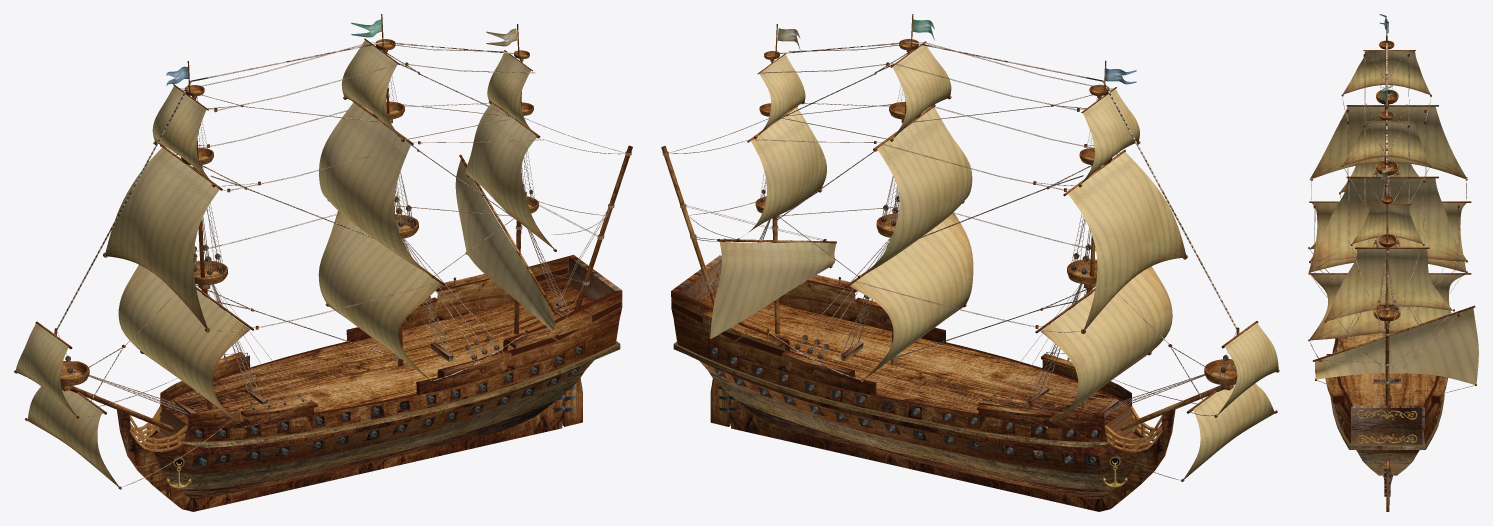
Rendered from ship_r.glb.
The picture shows the model from 3 angles, left to right: view 1: azimuth 30°, elevation 25°; view 2: azimuth 150°, elevation 25°; view 3: azimuth 270°, elevation 25°; orthographic projection. The views are drawn at different scales.
Visible parts, largest first — view 1: Object_30, Object_35, Object_16, Object_39, Object_33, Object_34, Object_8, Object_36, Object_14, Object_10, Object_7, Object_40 (+2 smaller); view 2: Object_30, Object_35, Object_16, Object_39, Object_33, Object_34, Object_8, Object_36, Object_14, Object_10, Object_7, Object_40 (+2 smaller); view 3: Object_30, Object_35, Object_33, Object_39, Object_16, Object_8, Object_10, Object_34, Object_14, Object_37, Object_7, Object_9.
Boxes of the visible parts, box(x1,y1,x2,y2) form: Object_30: box(15, 40, 555, 486); Object_35: box(117, 255, 622, 511); Object_16: box(156, 341, 620, 493); Object_39: box(145, 255, 621, 477); Object_33: box(35, 14, 558, 489); Object_34: box(14, 50, 632, 465); Object_8: box(57, 42, 610, 400); Object_36: box(178, 400, 556, 499); Object_14: box(57, 42, 625, 487); Object_10: box(73, 52, 569, 414); Object_7: box(79, 89, 584, 416); Object_40: box(193, 347, 581, 466); Object_30: box(710, 43, 1278, 479); Object_35: box(671, 255, 1175, 511); Object_16: box(673, 341, 1136, 496); Object_39: box(671, 255, 1145, 478); Object_33: box(717, 14, 1279, 431); Object_34: box(661, 50, 1233, 481); Object_8: box(686, 42, 1236, 399); Object_36: box(737, 400, 1112, 499); Object_14: box(669, 42, 1236, 426); Object_10: box(758, 53, 1220, 480); Object_7: box(709, 89, 1214, 416); Object_40: box(711, 347, 1097, 463); Object_30: box(1309, 51, 1478, 384); Object_35: box(1325, 333, 1448, 504); Object_33: box(1308, 19, 1475, 380); Object_39: box(1351, 378, 1424, 453); Object_16: box(1330, 345, 1444, 475); Object_8: box(1314, 51, 1462, 381); Object_10: box(1342, 52, 1466, 405); Object_34: box(1313, 49, 1476, 511); Object_14: box(1309, 36, 1460, 383); Object_37: box(1357, 410, 1417, 443); Object_7: box(1310, 51, 1474, 405); Object_9: box(1376, 109, 1397, 315).
Bounding box in the file's own units: 16.12 × 11.81 × 5.26.
Materials: 16 (16 with a texture image).
